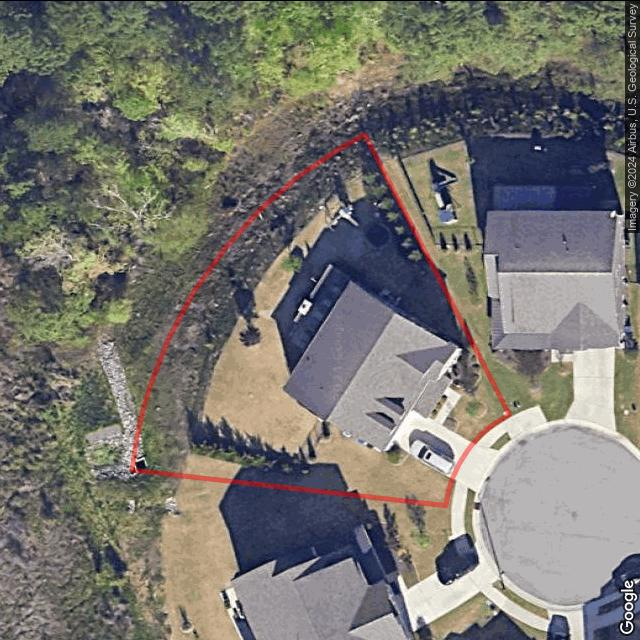Driveway: (391, 408, 473, 477)
Extra-Driveway: (453, 442, 502, 492)
Extra-Lawn: (492, 432, 512, 448), (445, 477, 455, 507), (466, 486, 475, 514)
Extra-Sidewalk: (476, 415, 519, 446), (452, 477, 468, 511)
House: (281, 279, 462, 452)
Lawn: (132, 133, 508, 504)
Other: (132, 129, 430, 477), (269, 199, 391, 353), (193, 427, 334, 481), (447, 343, 482, 395), (385, 443, 411, 465), (427, 394, 448, 419)
Sidewalk: (433, 386, 461, 424)
